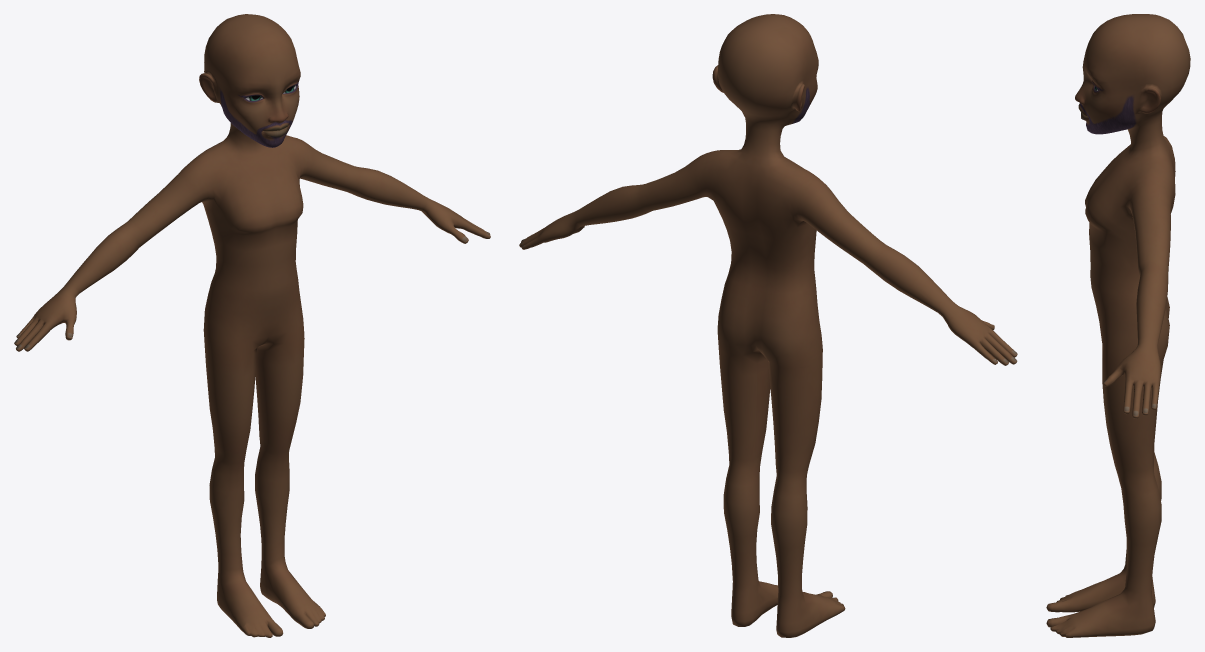
File: frame_0026.glb
3 renders of one model, left to right at view 1: azimuth 30°, elevation 25°; view 2: azimuth 150°, elevation 25°; view 3: azimuth 270°, elevation 25°, orthographic. The views are drawn at different scales.
Visible parts, largest first — view 1: frame_0026_head_geo; view 2: frame_0026_head_geo; view 3: frame_0026_head_geo.
Part boxes in pixels (<box>): frame_0026_head_geo: <box>14,14,490,637</box>; frame_0026_head_geo: <box>519,14,1017,637</box>; frame_0026_head_geo: <box>1046,14,1190,637</box>.
Size of the model in its own units: 1.28 by 1.5 by 0.3253.
Materials: 3 (3 with a texture image).
